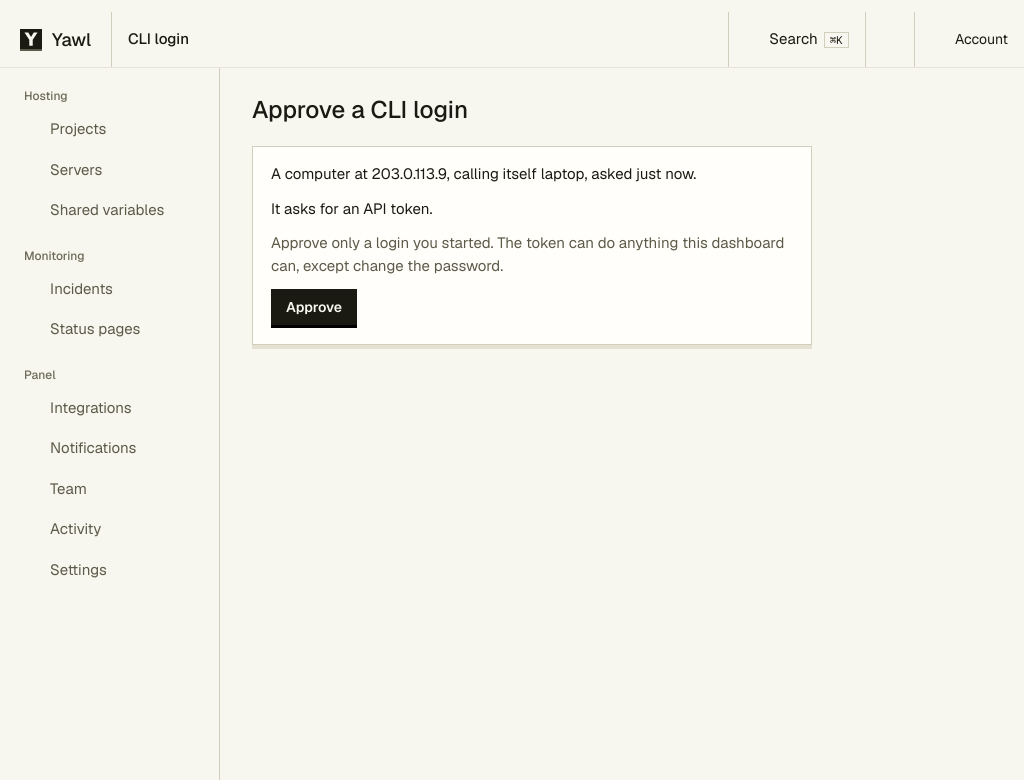
CliLogin › shows the host, and approves
Expected: the text "calling itself laptop" is shown, top-left (271, 164), bottom-right (696, 183)
What coordinates should you click on to do the following:
click the button "Approve"
I would click on:
 (314, 307)
Its box is top-left (271, 289), bottom-right (357, 325).
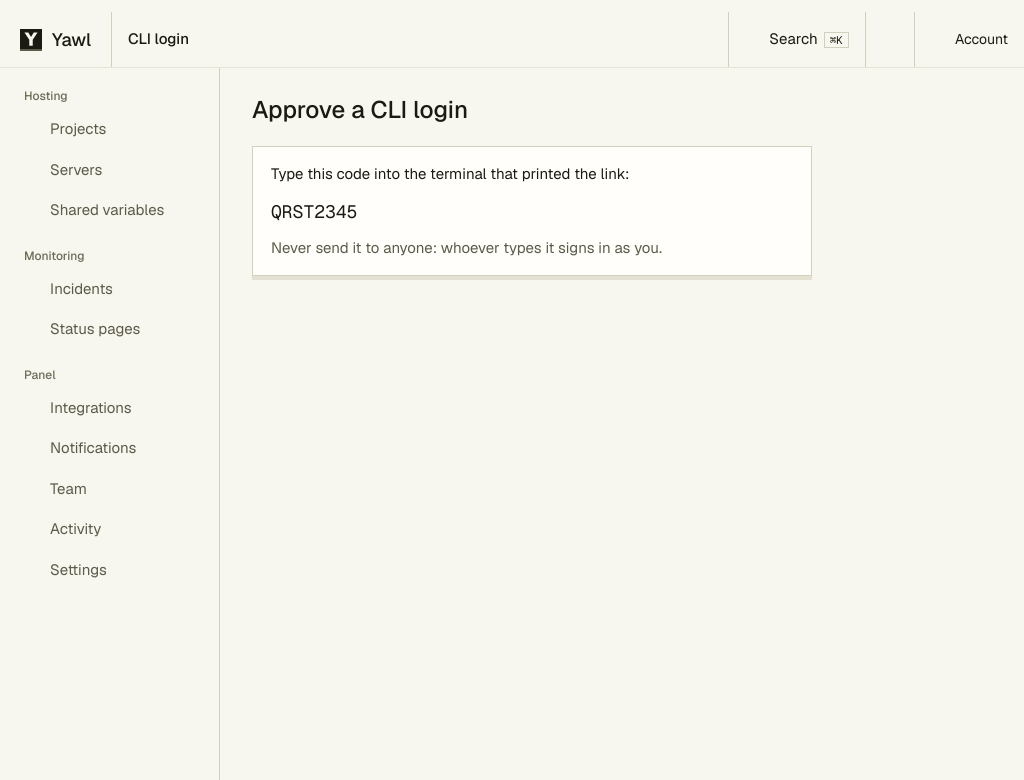
Expected: the text "QRST2345" is shown, top-left (271, 200), bottom-right (357, 222)
